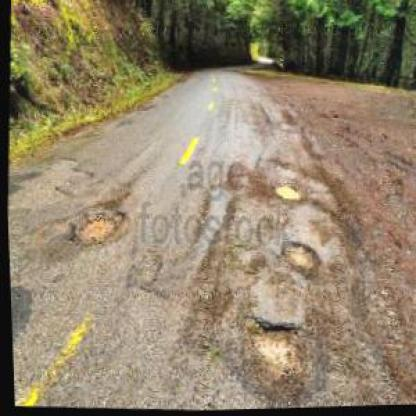pothole: (239, 315, 305, 377), (61, 202, 128, 249), (277, 238, 319, 282), (271, 182, 302, 205)
